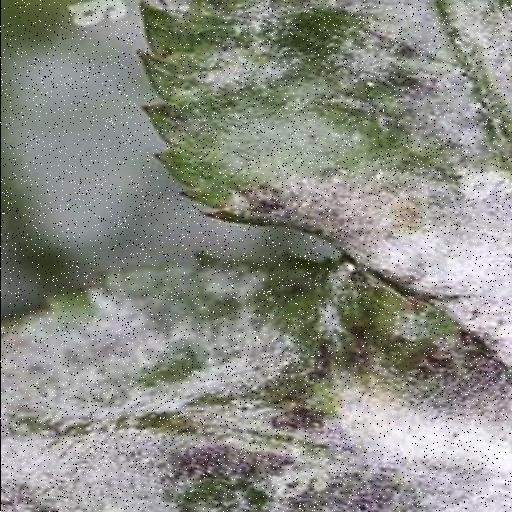powdery_mildew: (0, 0, 512, 512), (141, 0, 512, 363)
